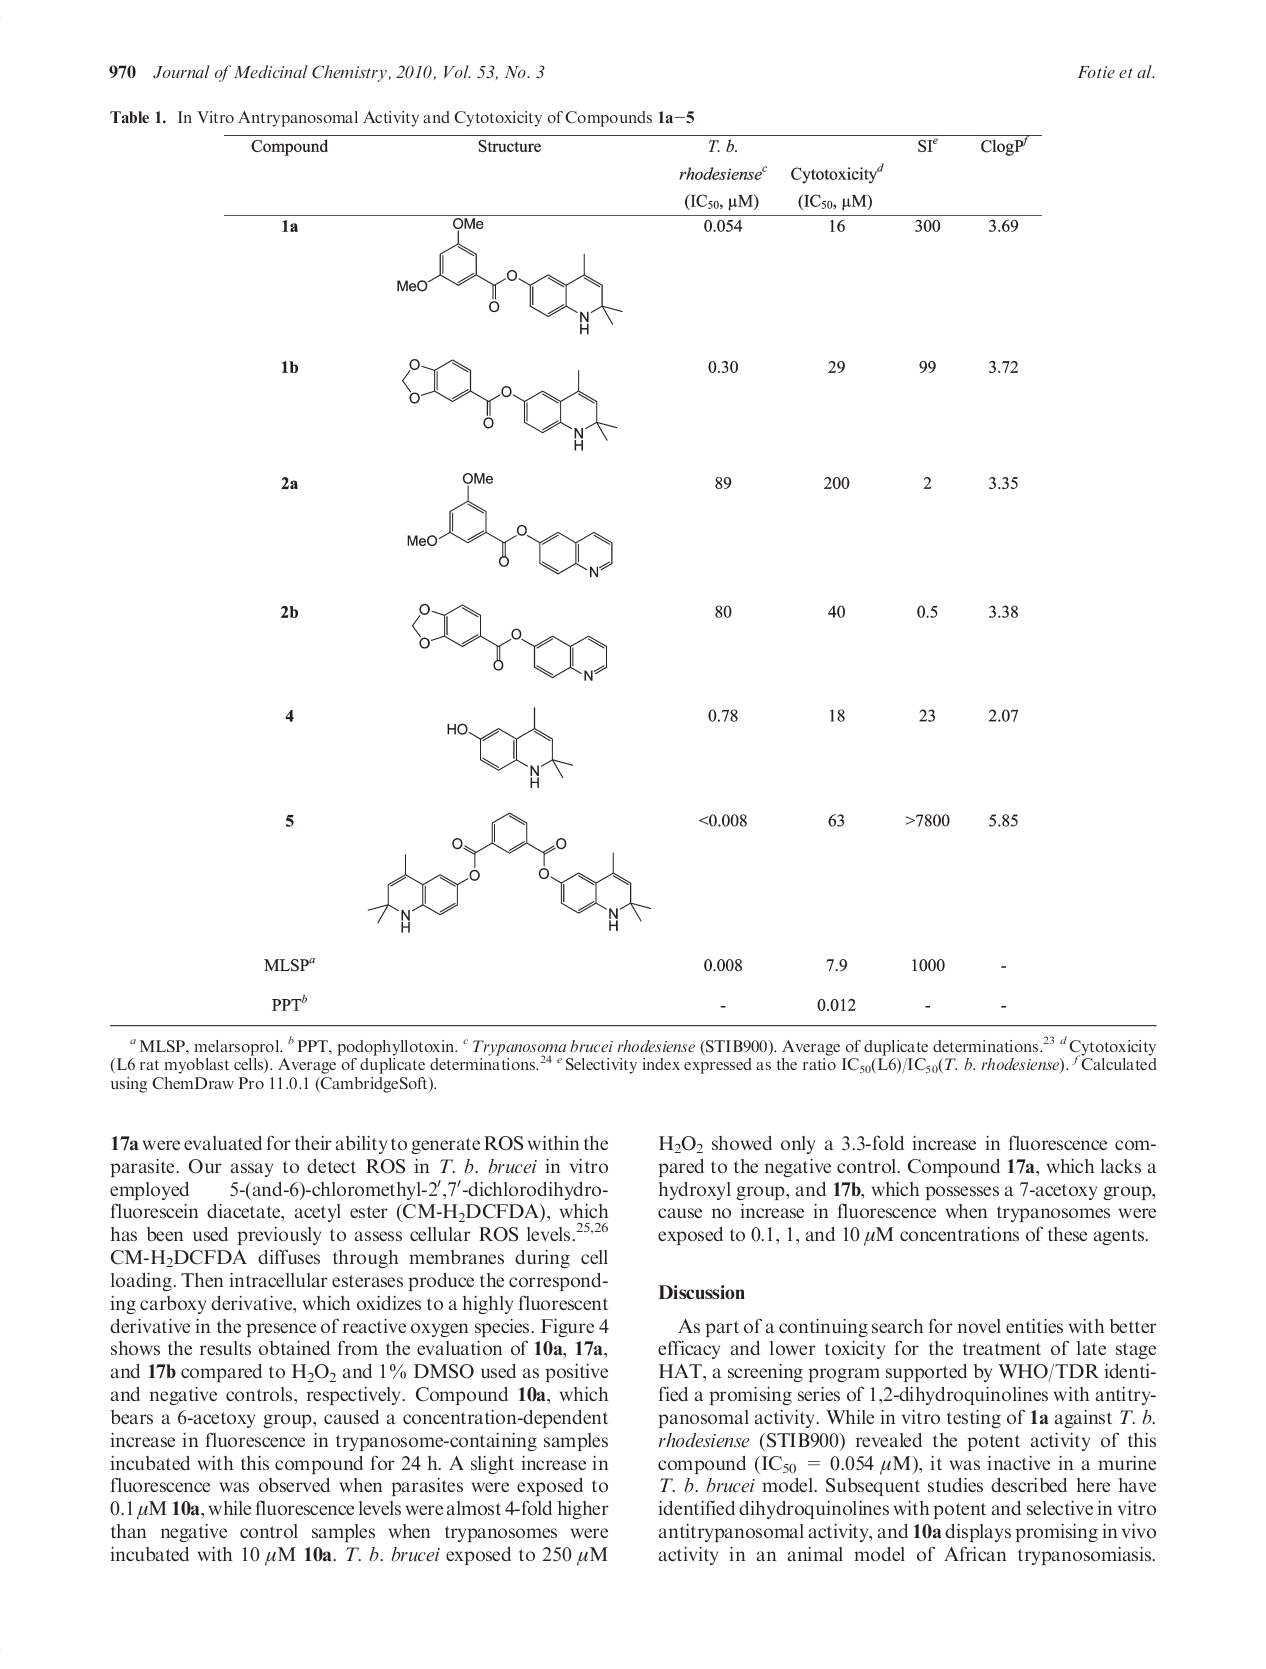exist_molecular: (366, 813, 653, 934), (396, 215, 624, 334), (406, 471, 614, 580), (402, 356, 618, 453), (411, 601, 609, 682), (445, 704, 573, 790)
